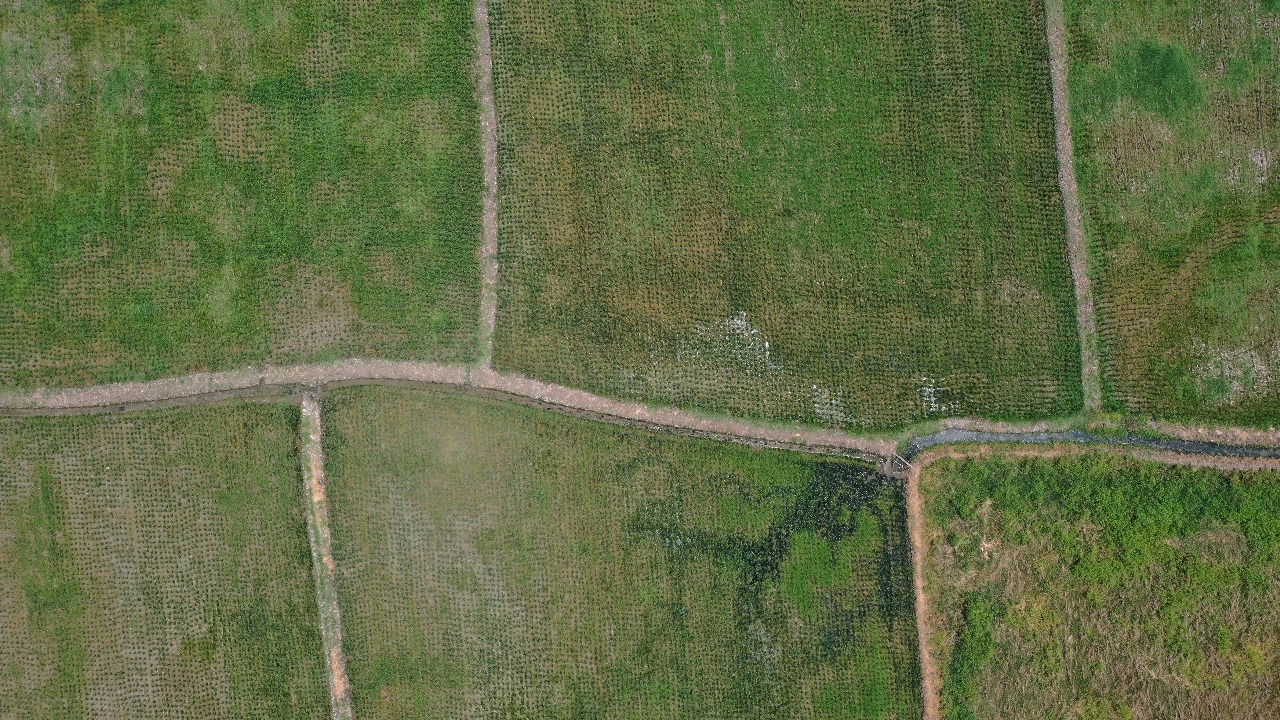irigation: (1035, 1, 1110, 411), (136, 342, 463, 412), (291, 384, 356, 720), (585, 386, 848, 460), (466, 1, 511, 357), (1057, 400, 1280, 470), (819, 410, 1066, 473), (894, 464, 944, 720), (441, 353, 613, 420), (1, 363, 141, 430)
